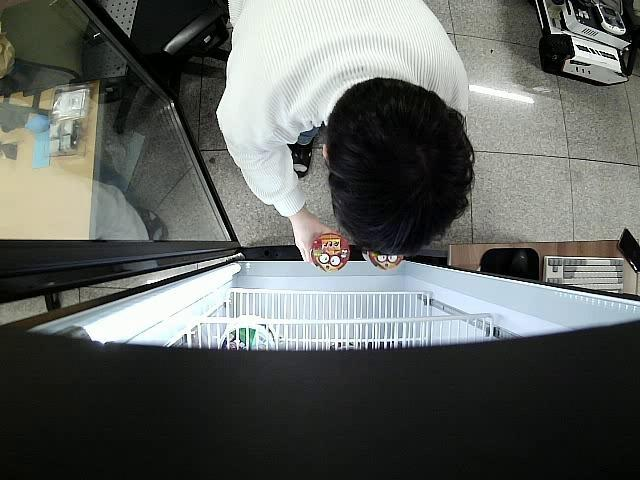06_nuguri_S: (311, 234, 348, 272)
